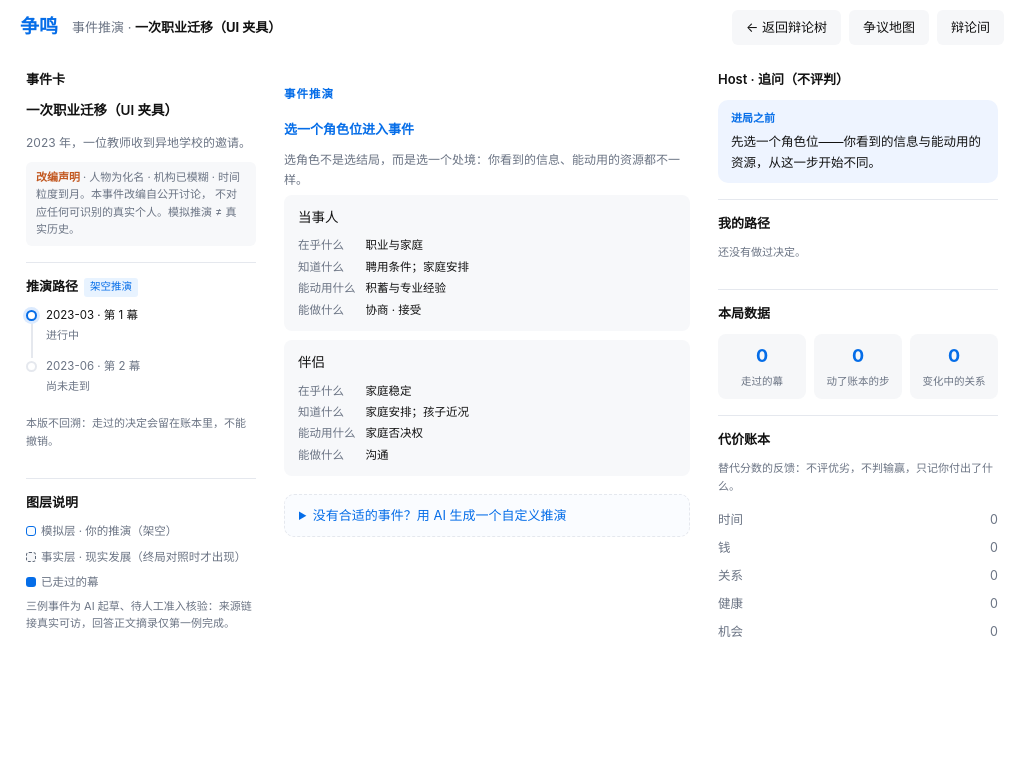
事件推演 UI · 沉浸式隔离（红线 3） › actCount 走满收束后才出现「揭示原作」入口，点击才发独立 replayCanon 请求
Click the button with aria-label "以当事人进入事件". click: (318, 217)
box: [284,195,690,331]
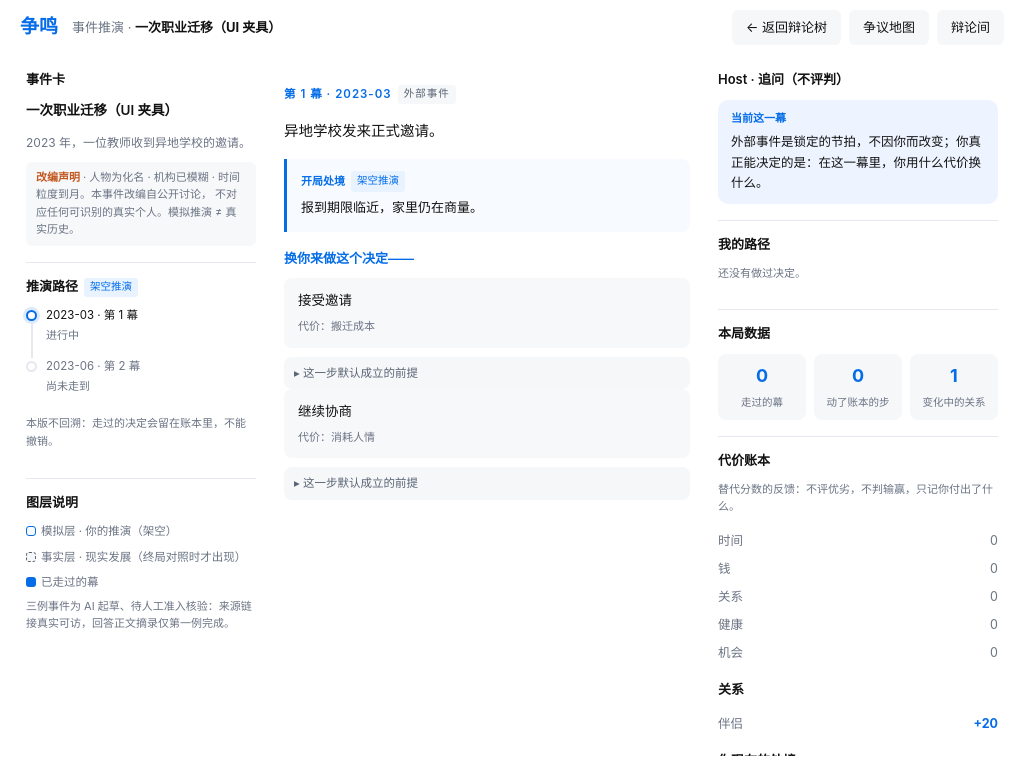
// 第 1 幕的选择 → 进入第 2 幕
Click the button "接受邀请 代价：搬迁成本". click: (325, 300)
box: [284,278,690,348]
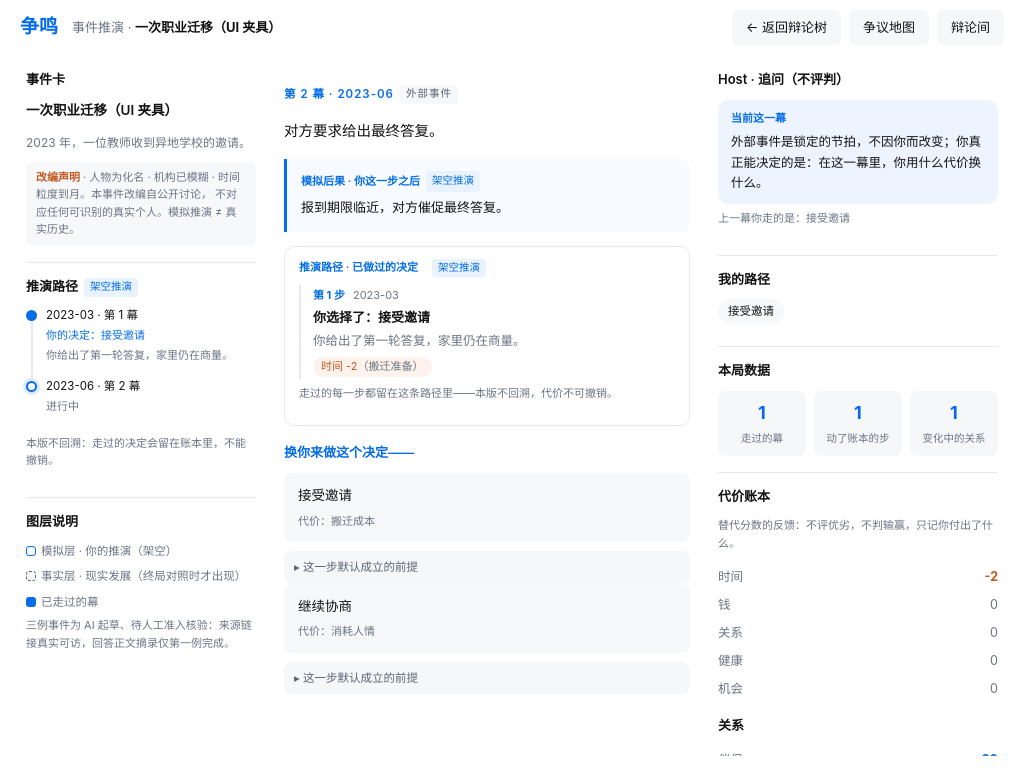
// 第 2 幕的动作出现后再选一次 → 收束
Click the button "接受邀请 代价：搬迁成本". click: (325, 495)
box: [284,473,690,542]
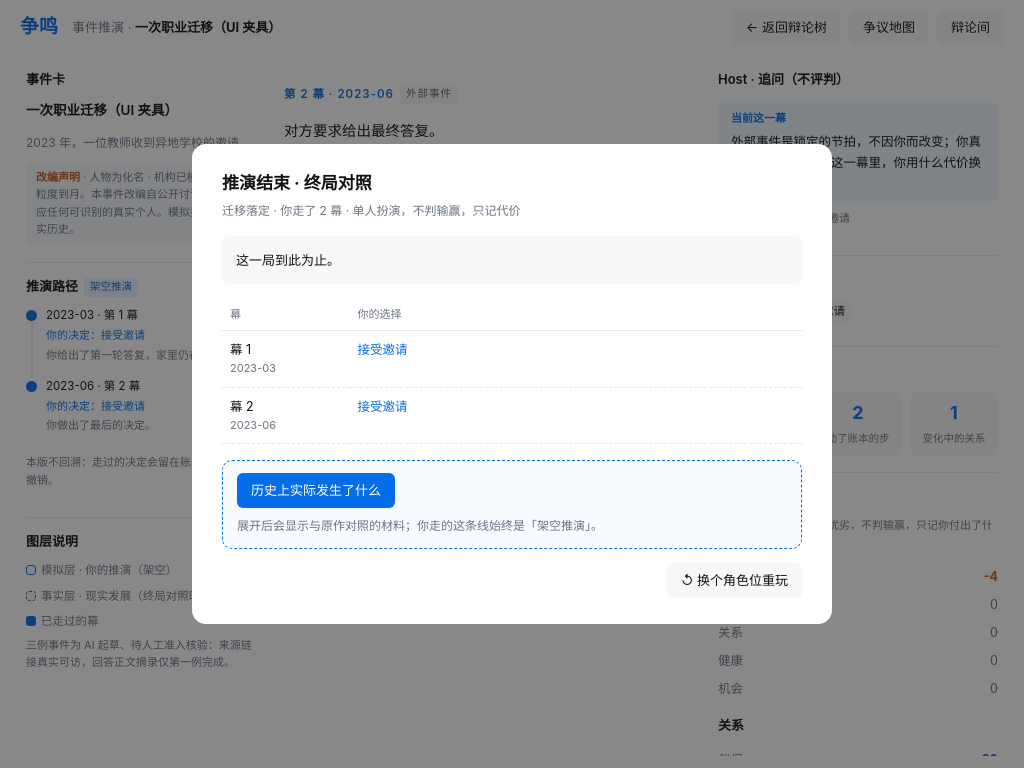
Expected: the text "现实中的公开讨论集中在两地教育资源差距与搬迁成本" is not shown
Expected: the text "史实" is not shown
Click the button "历史上实际发生了什么". click: (316, 490)
box: [237,473,395,508]
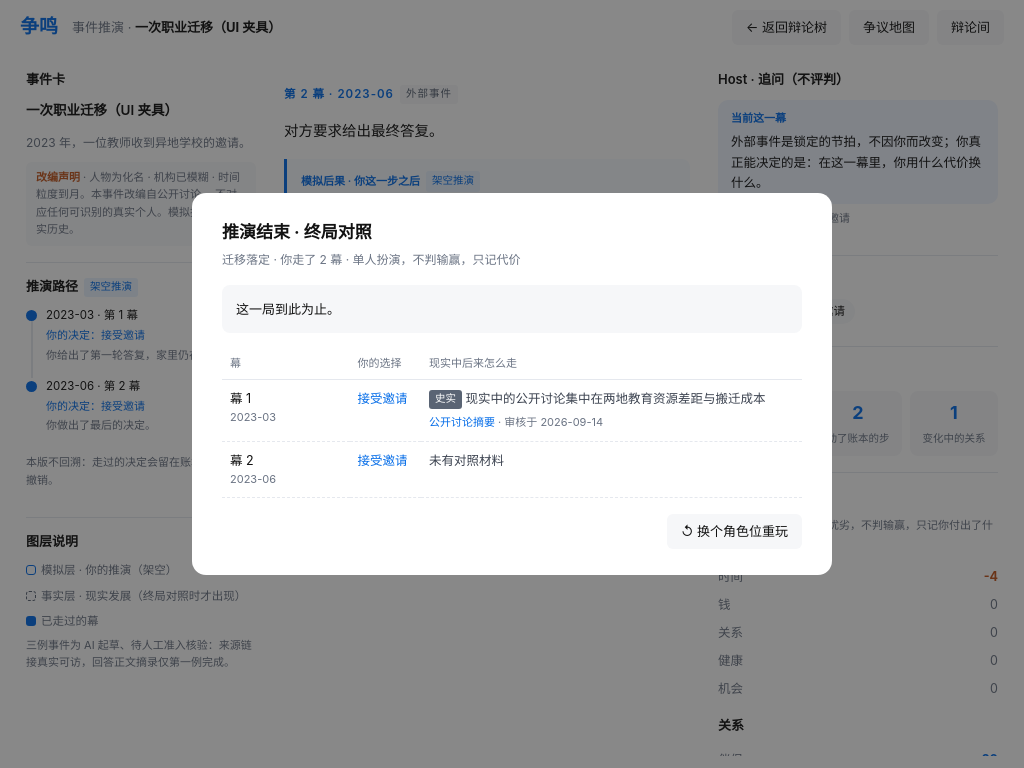
Now the text "现实中的公开讨论集中在两地教育资源差距与搬迁成本" is shown, box [466,391,766,406]
Now the text "史实" is shown, box [429,390,462,409]
